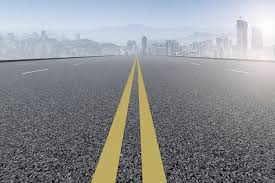strada: (1, 53, 271, 179)
